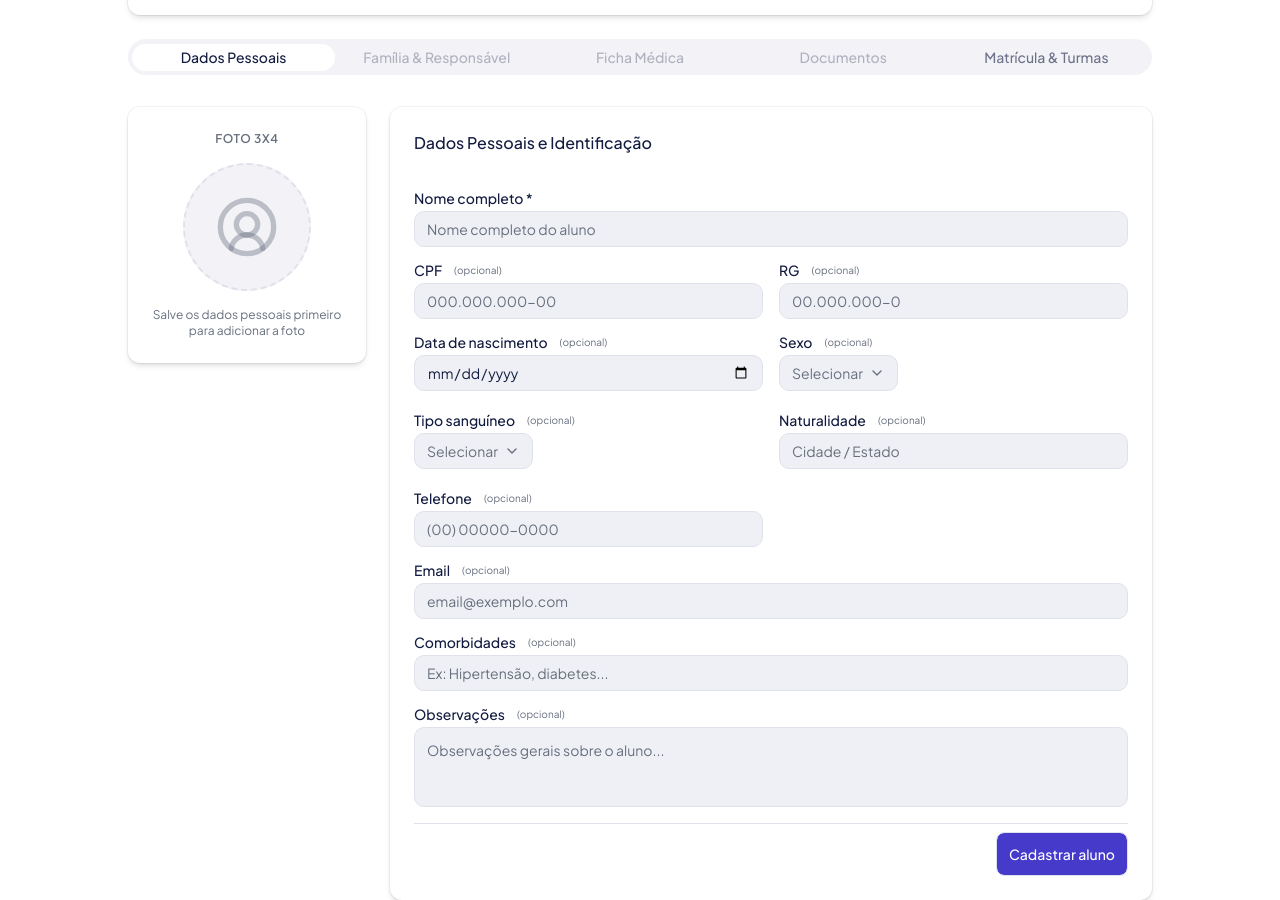
Test: StudentFormPage › mostra erros de validação ao submeter o formulário vazio
The image size is (1280, 900).
(page scrolled)
What coordinates should you click on to do the following:
click the button "Cadastrar aluno"
I would click on:
 (1062, 854)
Its box is [996,832,1128,876].
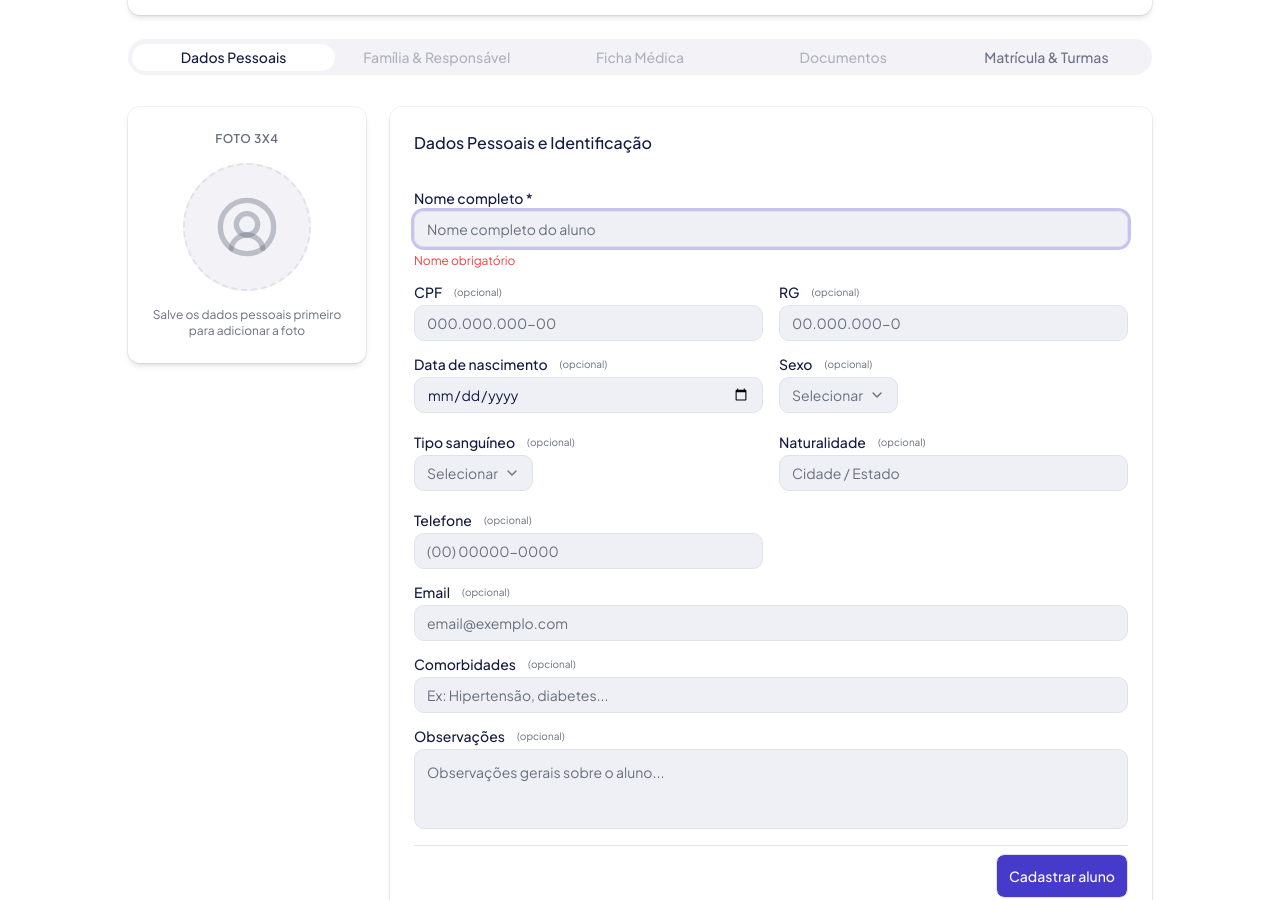
expect the text "Nome obrigatório" is shown: met, box [414,253,515,268]
